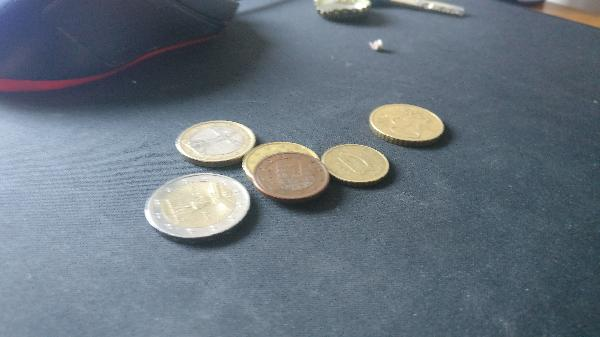Fifty Cent: (368, 99, 448, 148)
Five Cent: (252, 153, 332, 203)
One Euro: (176, 120, 253, 168)
Ten Cent: (324, 142, 393, 194)
Twenty Cent: (243, 142, 318, 181)
Two Euro: (147, 174, 250, 244)
